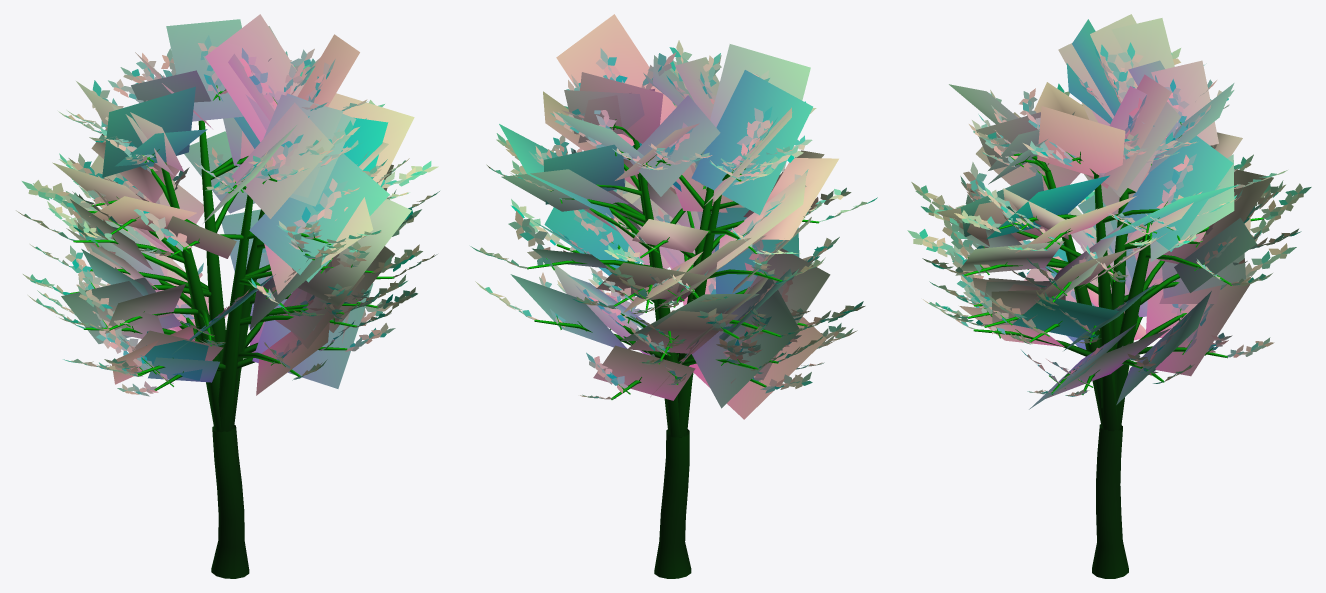
Rendered from shade_3.glb.
3 renders of one model, left to right at view 1: azimuth 30°, elevation 25°; view 2: azimuth 150°, elevation 25°; view 3: azimuth 270°, elevation 25°, orthographic. The views are drawn at different scales.
Parts seen in each view (by area): view 1: mid, near; view 2: mid, near; view 3: mid, near.
Part boxes in pixels (box(x1,y1,x2,y2)): mid: box(52, 14, 414, 432); near: box(16, 35, 439, 578); mid: box(499, 14, 838, 437); near: box(470, 40, 877, 578); mid: box(937, 14, 1273, 431); near: box(907, 42, 1311, 578).
Size of the model in its own units: 9.04 by 12.36 by 8.88.
